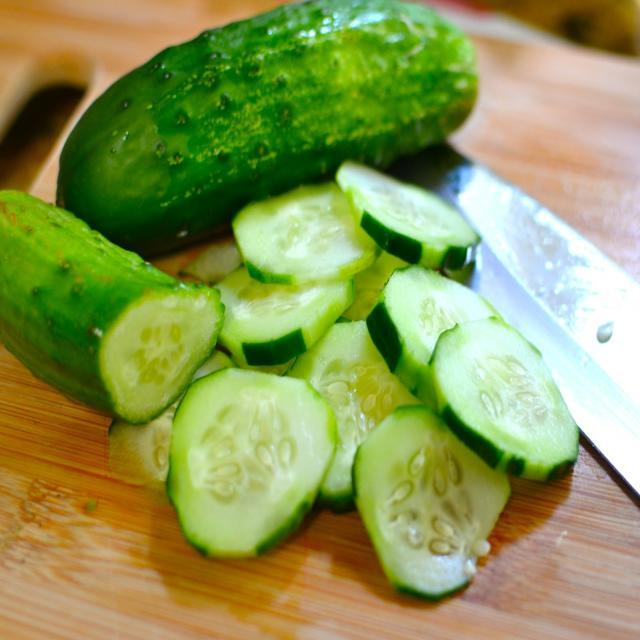cucumber: (57, 0, 485, 245), (0, 190, 225, 423)
